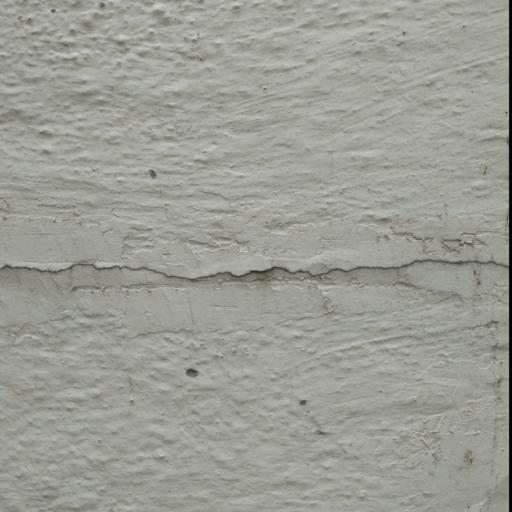minor_crack: (4, 202, 512, 320)
